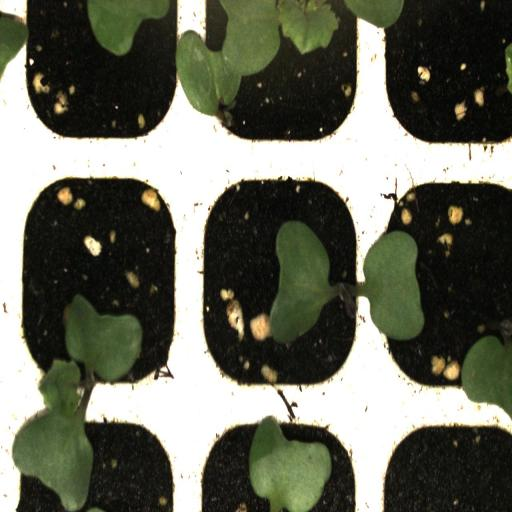Folha: (12, 294, 143, 512), (175, 0, 405, 116), (270, 221, 336, 344), (249, 418, 332, 512), (359, 230, 425, 341), (87, 0, 172, 56), (461, 336, 512, 417)
Germinacao: (0, 168, 192, 406), (191, 167, 373, 405)
